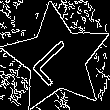L_NE: (28, 30, 86, 87)
